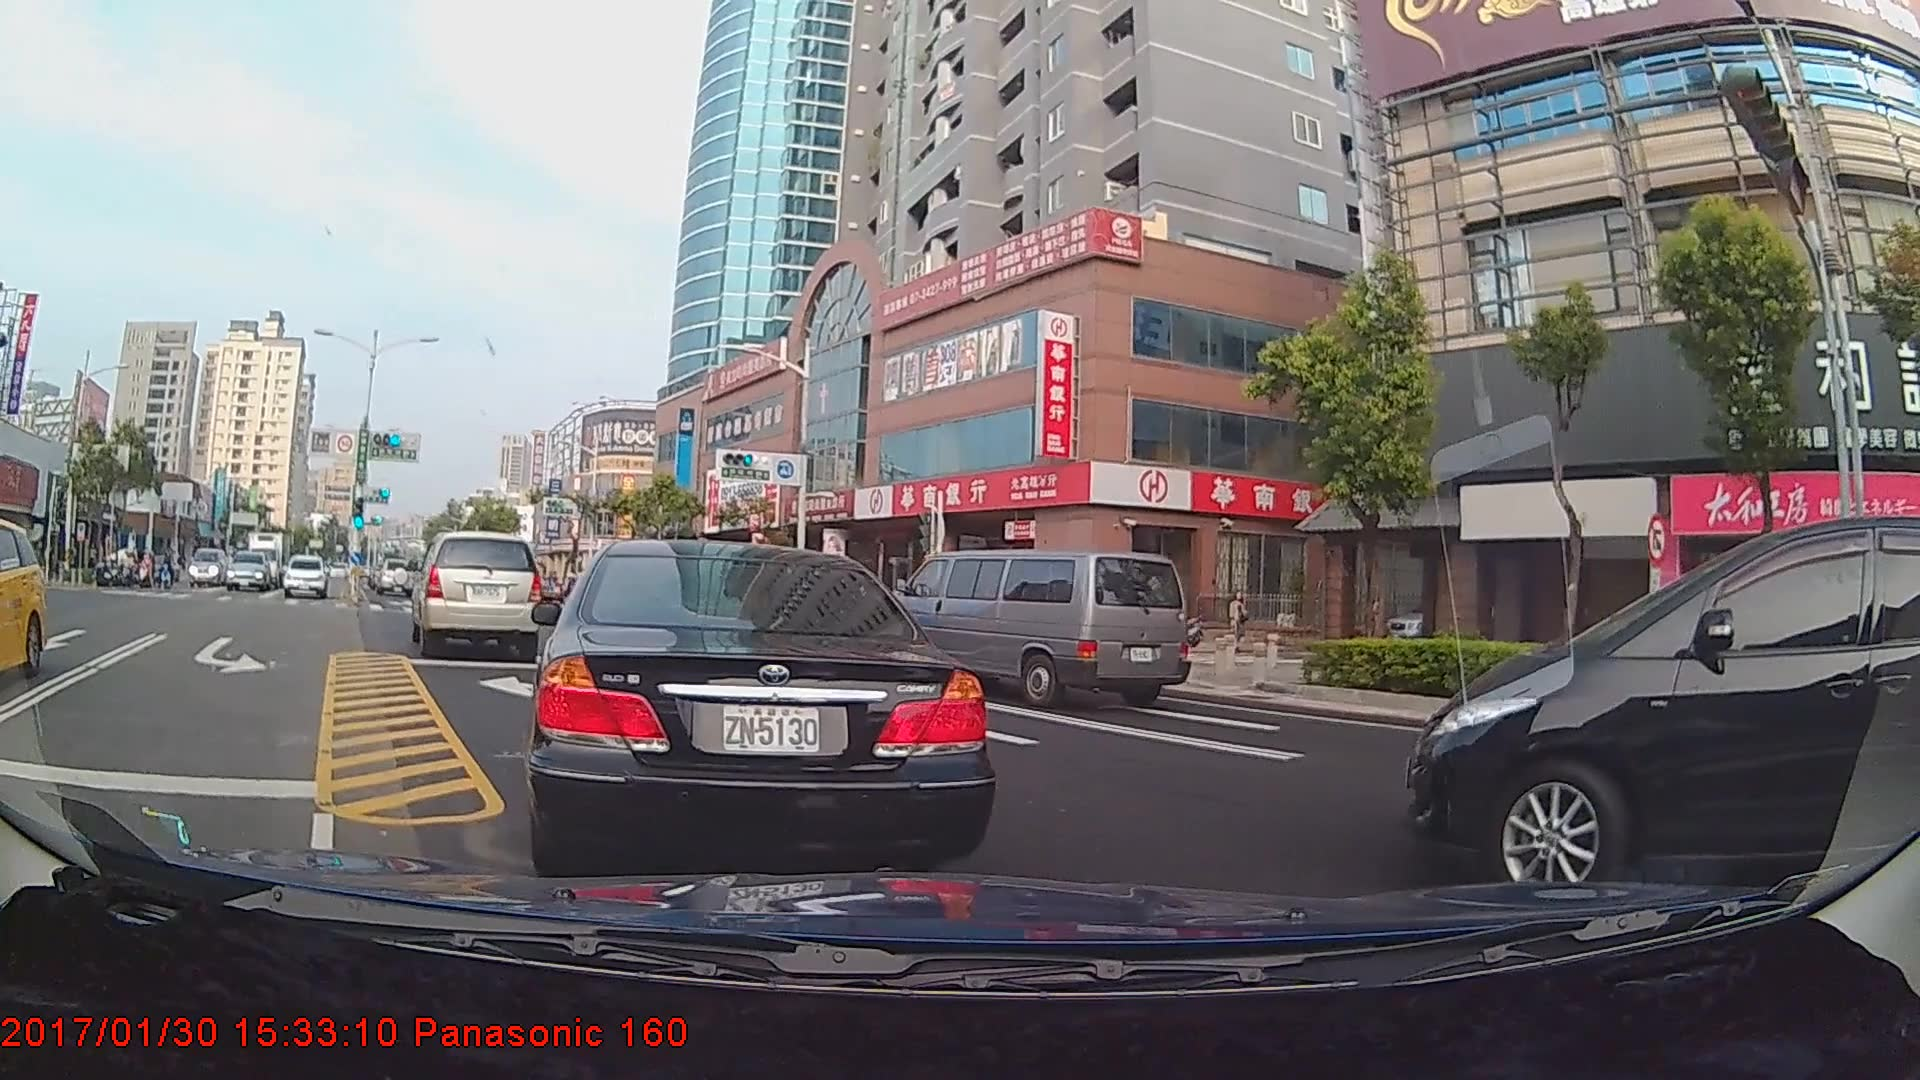pedestrian: (1226, 592, 1250, 653)
vehicle: (1388, 480, 1902, 899), (527, 536, 985, 880), (872, 548, 1194, 713), (410, 531, 548, 654), (0, 519, 46, 680), (243, 526, 294, 581), (283, 553, 328, 599), (226, 550, 272, 593), (188, 547, 229, 588), (372, 554, 412, 594)
